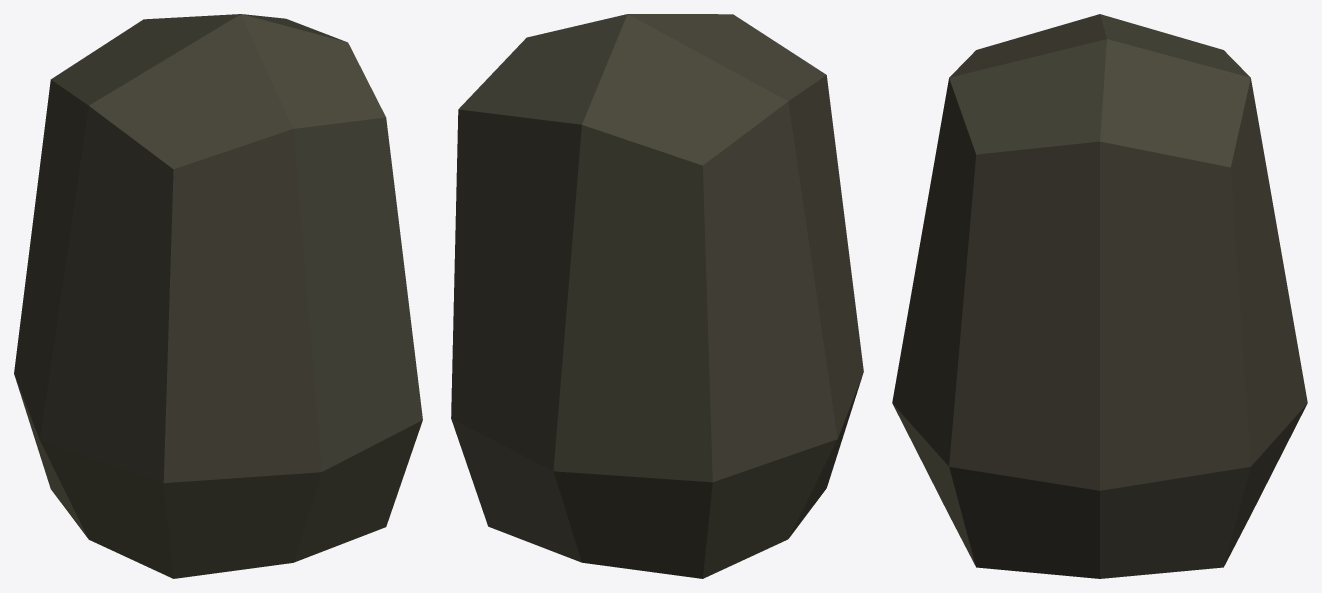
The model's file is rock2.fbx.
3 renders of one model, left to right at view 1: azimuth 30°, elevation 25°; view 2: azimuth 150°, elevation 25°; view 3: azimuth 270°, elevation 25°, orthographic.
Parts seen in each view (by area): view 1: Cube.002; view 2: Cube.002; view 3: Cube.002.
Part boxes in pixels (x1,y1,x2,y2): Cube.002: (14,14,422,578); Cube.002: (451,14,863,578); Cube.002: (892,14,1307,578).
Bounding box in the file's own units: 840 × 1090 × 840.
